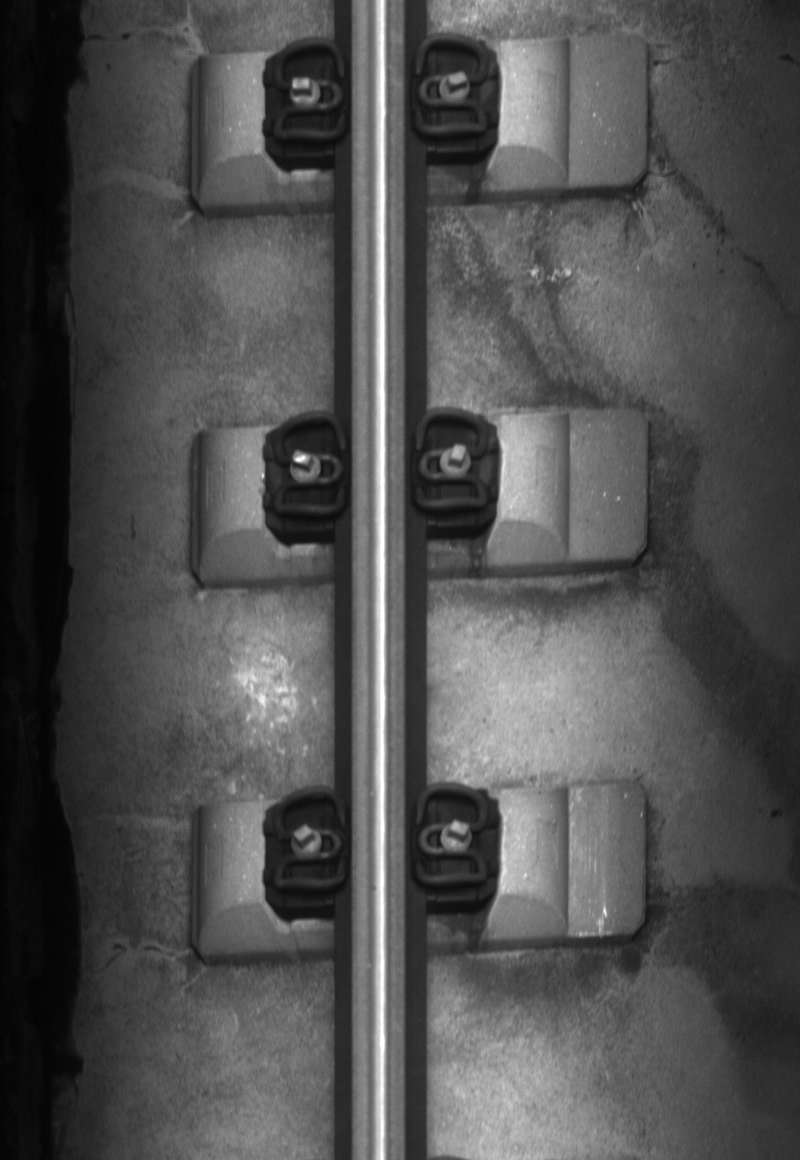l_faster: (266, 33, 351, 148), (268, 781, 351, 897), (265, 409, 351, 520)
r_faster: (410, 31, 493, 143), (410, 404, 490, 514), (410, 779, 488, 886)
